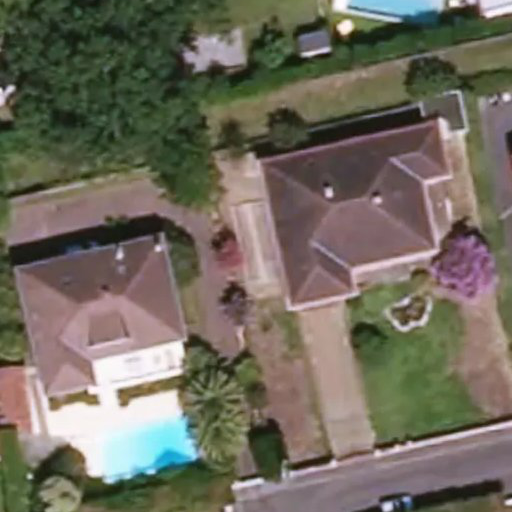pool: (234, 208, 277, 275)
